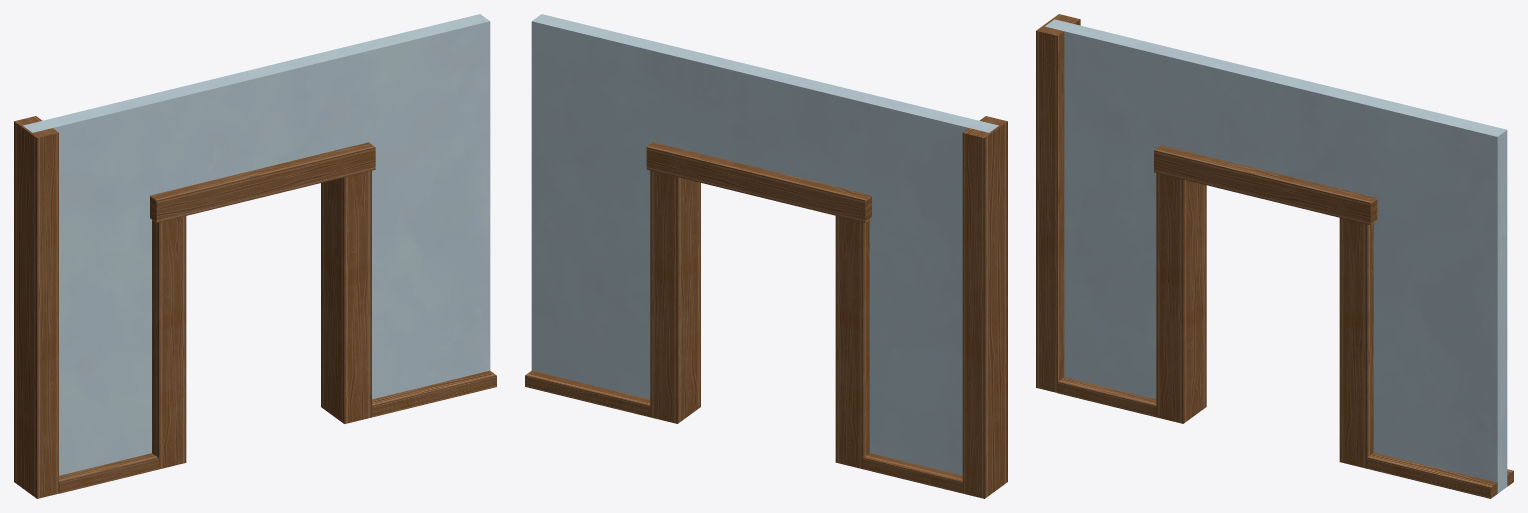
Rendered from SM_Door_Wall_01_wblue.glb.
3 views of the same model, side by side, from view 1: azimuth 30°, elevation 25°; view 2: azimuth 150°, elevation 25°; view 3: azimuth 330°, elevation 25° (orthographic).
Visible parts, largest first — view 1: SM_Door_Wall_01; view 2: SM_Door_Wall_01; view 3: SM_Door_Wall_01.
Part boxes in pixels (x1,y1,x2,y2): SM_Door_Wall_01: (14,14,496,498); SM_Door_Wall_01: (525,14,1007,498); SM_Door_Wall_01: (1036,14,1513,498).
Bounding box in the file's own units: 4 × 3 × 0.3524.
Materials: 2 (2 with a texture image).
